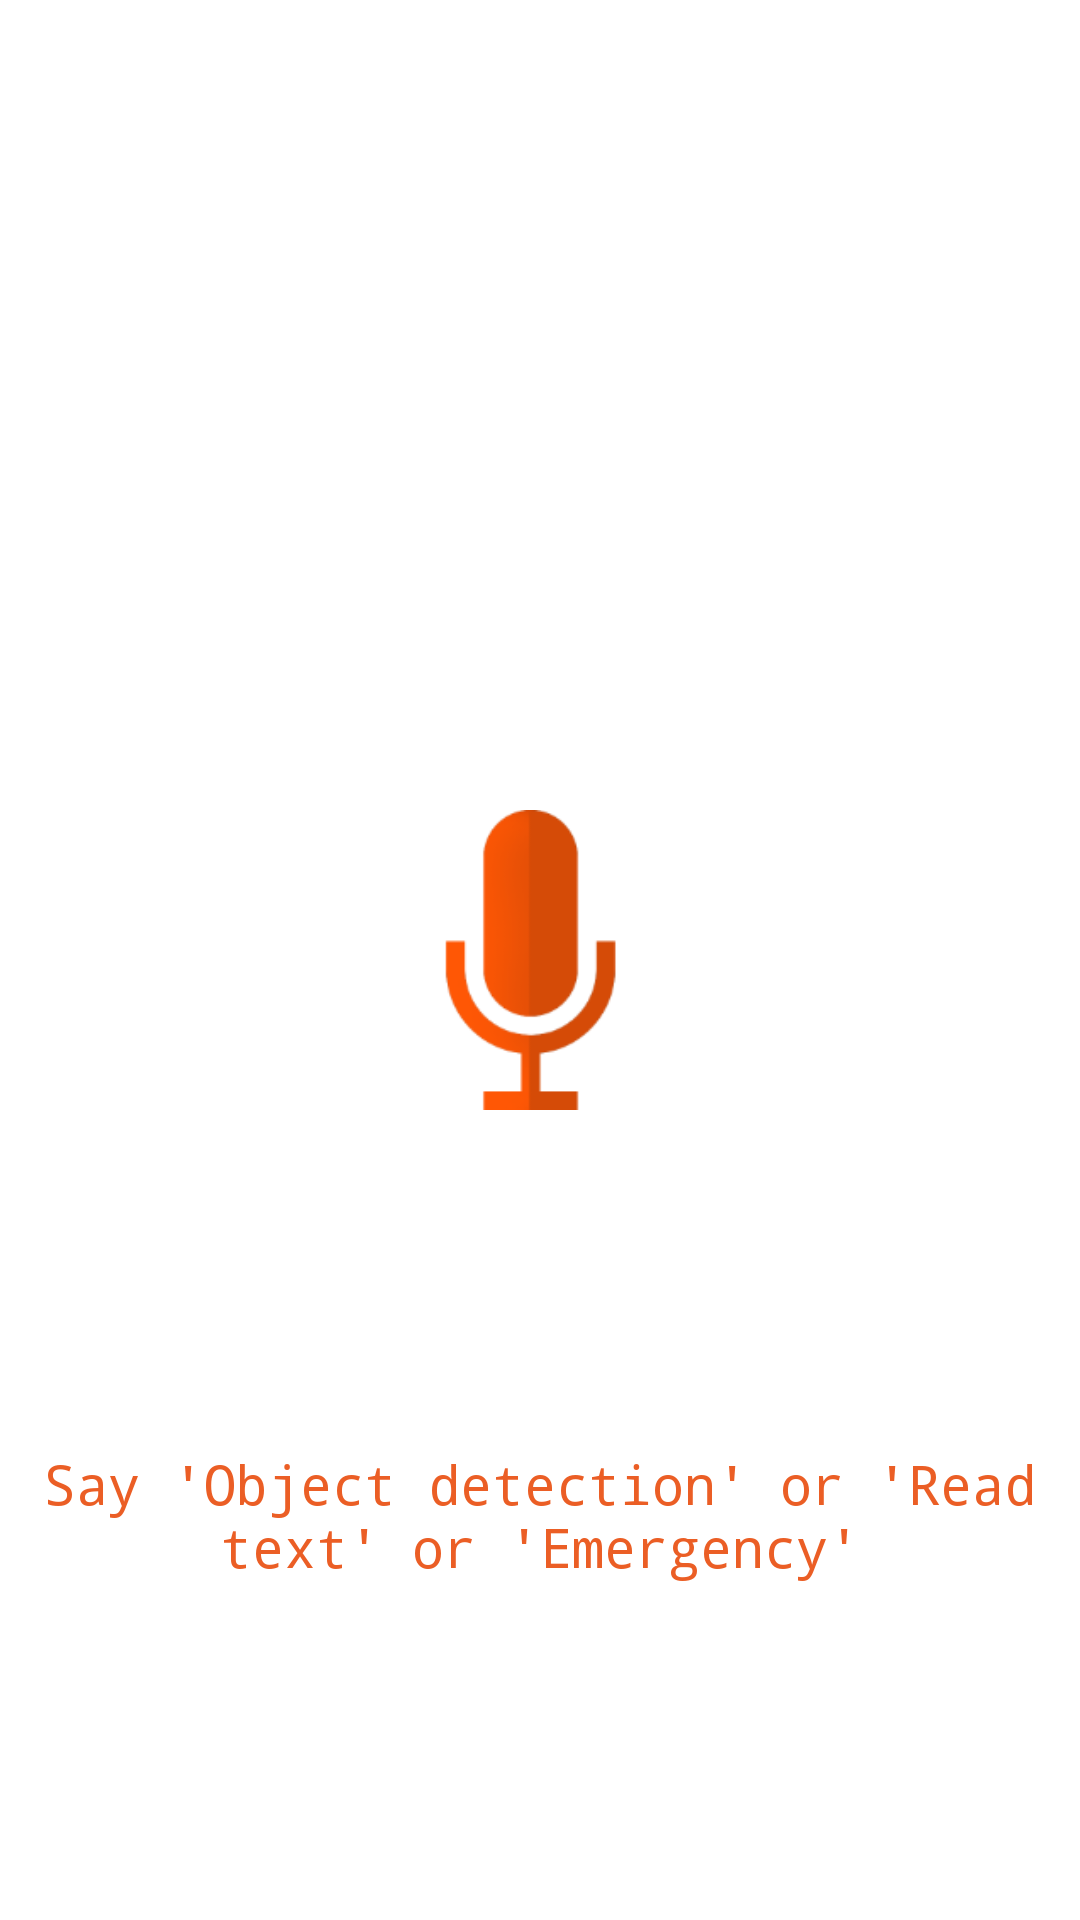

Screen size 1080*1920. Icon name, then its box in pixels as (x1, y1, x2, y2):
mic: (445, 810, 616, 1110)
